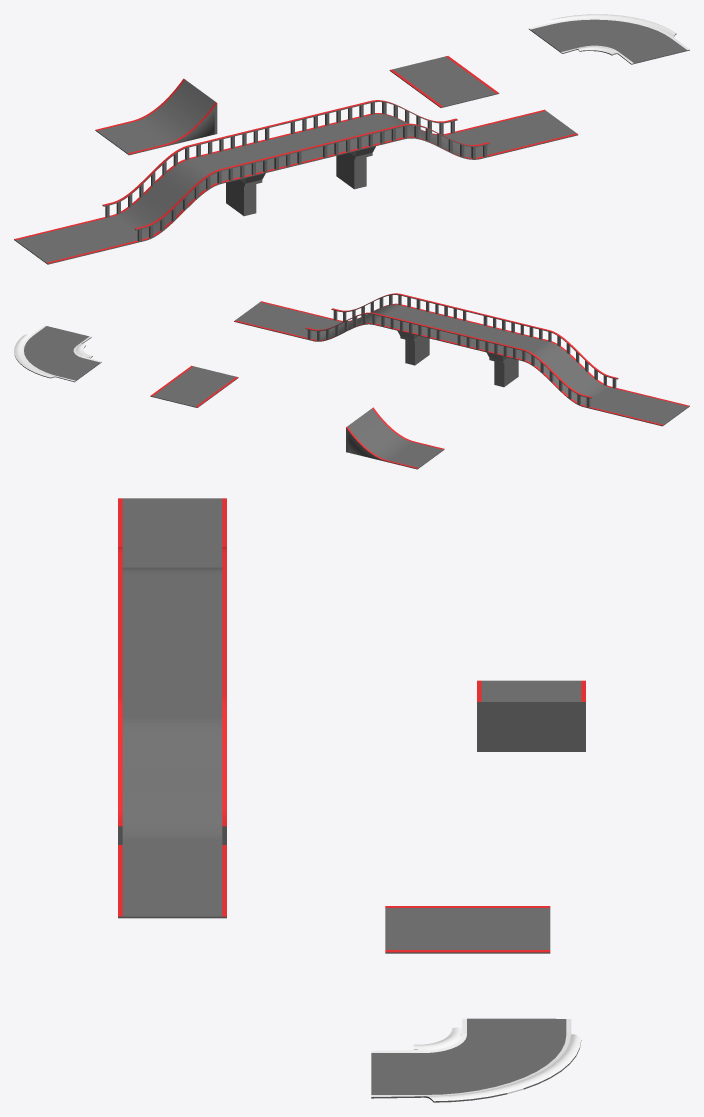
File: track.glb
The picture shows the model from 3 angles, top to bottom: view 1: azimuth 30°, elevation 25°; view 2: azimuth 150°, elevation 25°; view 3: azimuth 270°, elevation 25°; orthographic projection. The views are drawn at different scales.
Parts seen in each view (by area): view 1: bridge, curve, ramp, straight; view 2: bridge, curve, ramp, straight; view 3: bridge, curve, straight, ramp.
Boxes of the visible parts, x1,y1,x2,y2 form: bridge: (14,100,578,264); curve: (529,14,689,64); ramp: (95,78,217,155); straight: (389,56,499,107); bridge: (234,293,689,426); curve: (14,325,101,382); ramp: (346,407,444,469); straight: (150,365,238,407); bridge: (118,498,226,918); curve: (371,1018,581,1102); straight: (385,906,550,953); ramp: (477,680,585,751).
Size of the model in its own units: 176 by 16.69 by 60.63.
